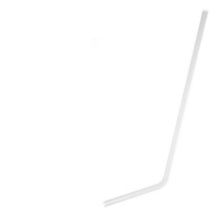drinking_straw: (97, 5, 213, 211)
